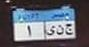1: (25, 24, 33, 38)
jeem: (65, 23, 74, 36)
noon: (56, 24, 65, 36)
yaa: (45, 25, 56, 37)
